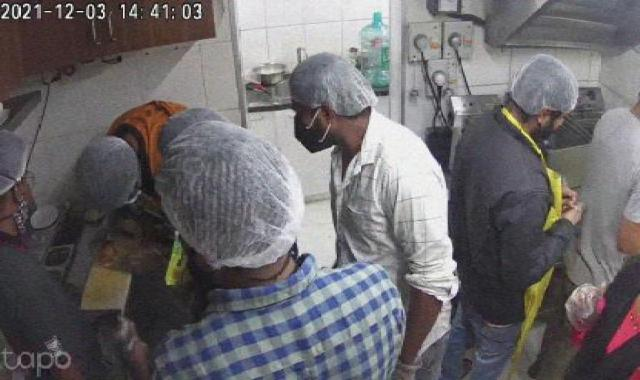hairnet: (161, 118, 309, 264), (285, 48, 388, 124), (67, 135, 142, 213), (511, 50, 582, 125), (153, 105, 231, 159), (0, 125, 40, 203)
